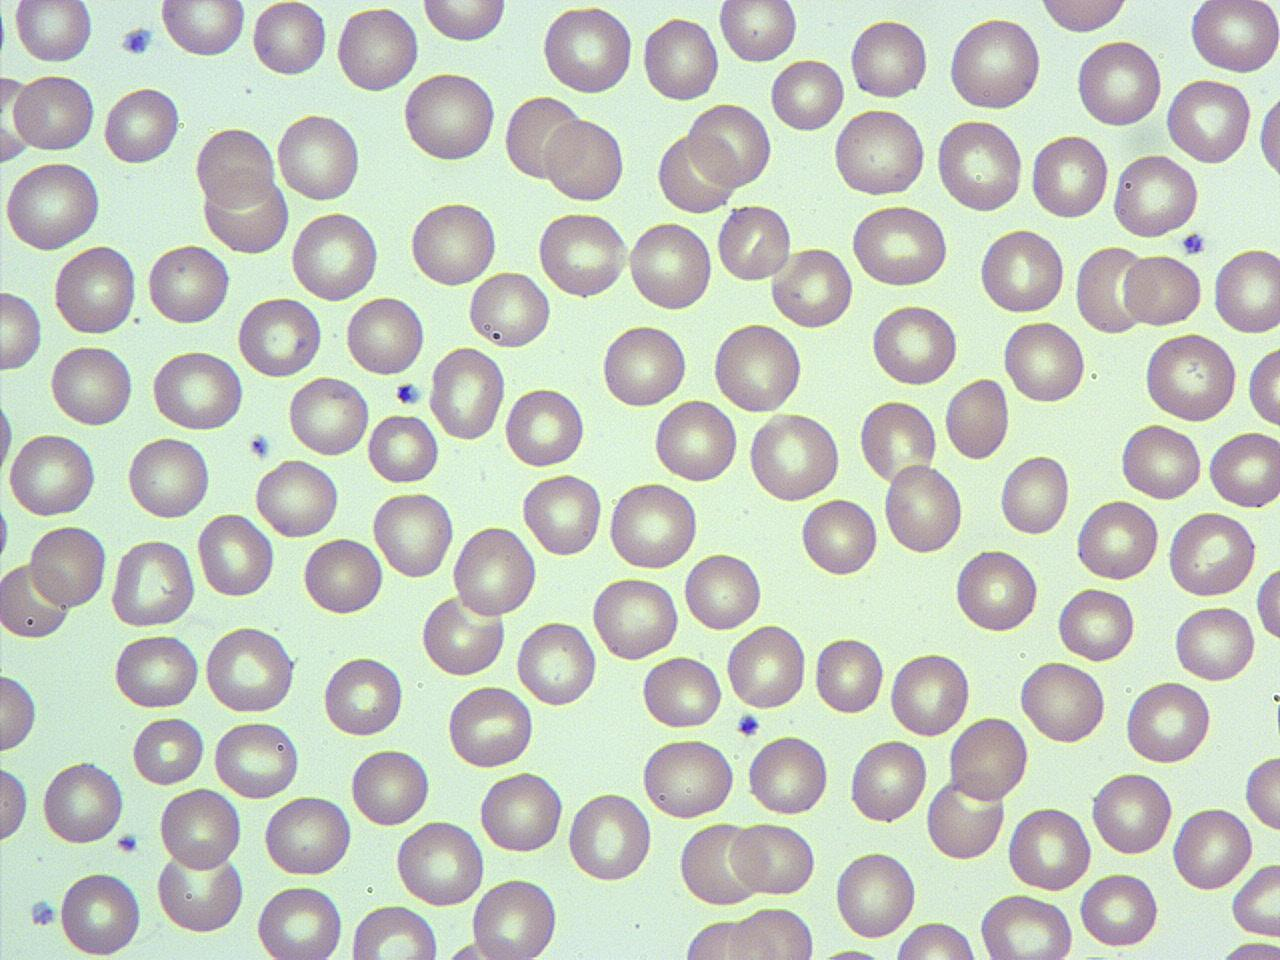Platelets: (119, 23, 156, 59), (1179, 230, 1207, 259), (734, 709, 761, 738), (394, 380, 422, 406), (247, 431, 270, 458)
RBC: (944, 14, 1045, 116), (0, 158, 106, 254), (399, 68, 498, 167), (709, 318, 805, 419), (848, 200, 952, 290), (1142, 328, 1240, 424), (747, 409, 844, 505), (540, 3, 636, 98), (933, 118, 1027, 215), (288, 207, 380, 306), (153, 841, 247, 937), (833, 105, 928, 199), (534, 209, 630, 302), (1073, 36, 1165, 133), (202, 625, 300, 715), (626, 216, 714, 317), (605, 480, 700, 572), (273, 109, 364, 206), (51, 241, 139, 340), (566, 788, 654, 886), (1122, 677, 1214, 769), (408, 198, 501, 290), (976, 225, 1069, 317), (639, 734, 737, 822), (450, 522, 536, 621), (260, 791, 354, 881), (831, 846, 920, 942), (426, 342, 508, 446), (881, 459, 965, 559), (1110, 150, 1200, 242), (686, 99, 776, 192), (393, 820, 486, 910), (370, 486, 457, 582), (148, 346, 245, 432), (1166, 508, 1258, 598), (1004, 802, 1093, 894), (590, 573, 682, 662), (109, 534, 197, 628), (445, 680, 535, 770), (1018, 658, 1109, 748), (468, 872, 560, 960), (1164, 74, 1252, 166), (1000, 316, 1087, 408), (5, 431, 98, 518), (56, 867, 144, 960), (39, 756, 126, 850), (334, 3, 420, 97), (600, 322, 690, 410), (513, 616, 599, 710), (724, 620, 809, 714), (501, 89, 584, 186), (47, 340, 136, 430), (199, 170, 290, 257), (1169, 803, 1255, 895), (869, 301, 958, 388), (954, 546, 1041, 636), (947, 712, 1031, 806), (544, 112, 628, 206), (520, 468, 604, 562), (888, 647, 972, 741), (145, 239, 233, 328), (477, 768, 566, 855), (745, 730, 831, 820), (211, 718, 303, 802), (848, 736, 930, 830), (1073, 495, 1161, 583), (235, 292, 323, 380), (1089, 769, 1175, 858), (856, 395, 940, 486), (157, 784, 243, 872), (253, 455, 342, 541), (466, 266, 554, 352), (125, 434, 211, 522), (728, 816, 818, 899), (10, 68, 96, 155), (1028, 131, 1110, 223), (419, 592, 506, 678), (653, 397, 739, 484), (770, 244, 855, 332), (640, 13, 721, 105), (28, 520, 109, 612), (193, 124, 277, 211), (301, 532, 385, 620), (349, 742, 432, 830), (848, 14, 930, 103), (196, 509, 276, 600), (682, 548, 765, 635), (926, 774, 1007, 864), (1186, 0, 1280, 77), (344, 294, 428, 379), (504, 384, 588, 470), (678, 820, 760, 908), (1170, 602, 1258, 684), (799, 493, 881, 581), (714, 199, 794, 287), (112, 630, 202, 710), (1073, 241, 1147, 338), (253, 882, 345, 960), (287, 373, 370, 459), (977, 890, 1077, 960), (321, 654, 404, 738), (101, 82, 182, 167), (1119, 419, 1203, 501), (640, 651, 724, 733), (1077, 869, 1161, 950), (1120, 250, 1204, 330), (998, 451, 1072, 541), (1055, 584, 1137, 664), (812, 631, 886, 719), (768, 54, 847, 136), (249, 0, 328, 82), (1211, 244, 1279, 338), (1206, 428, 1280, 512), (943, 373, 1012, 464), (0, 558, 70, 642), (716, 0, 800, 69), (130, 712, 206, 788), (720, 904, 820, 960), (367, 410, 441, 486), (12, 0, 95, 68), (346, 902, 440, 958), (158, 1, 246, 59), (1229, 857, 1279, 943), (419, 0, 509, 46), (680, 916, 770, 960), (1, 286, 44, 374), (892, 918, 982, 960), (1035, 0, 1135, 36), (0, 670, 41, 754), (1243, 749, 1279, 837), (1245, 341, 1279, 432), (0, 758, 30, 850), (0, 72, 30, 162), (1255, 80, 1279, 191), (1252, 560, 1280, 648)
